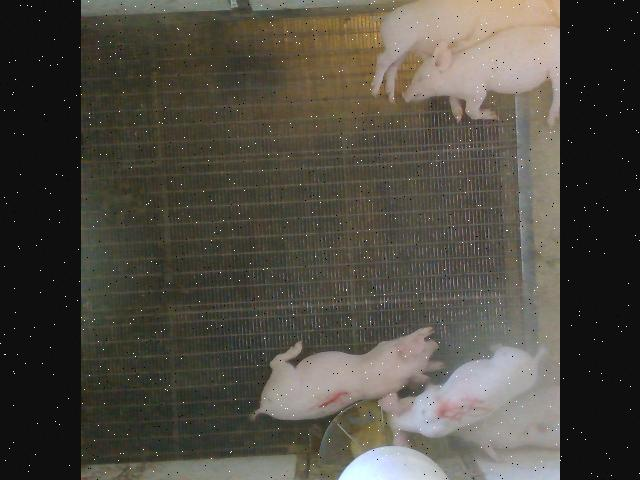pig-1: (250, 328, 439, 420)
pig-3: (451, 386, 558, 459)
pig-5: (379, 346, 544, 443)
